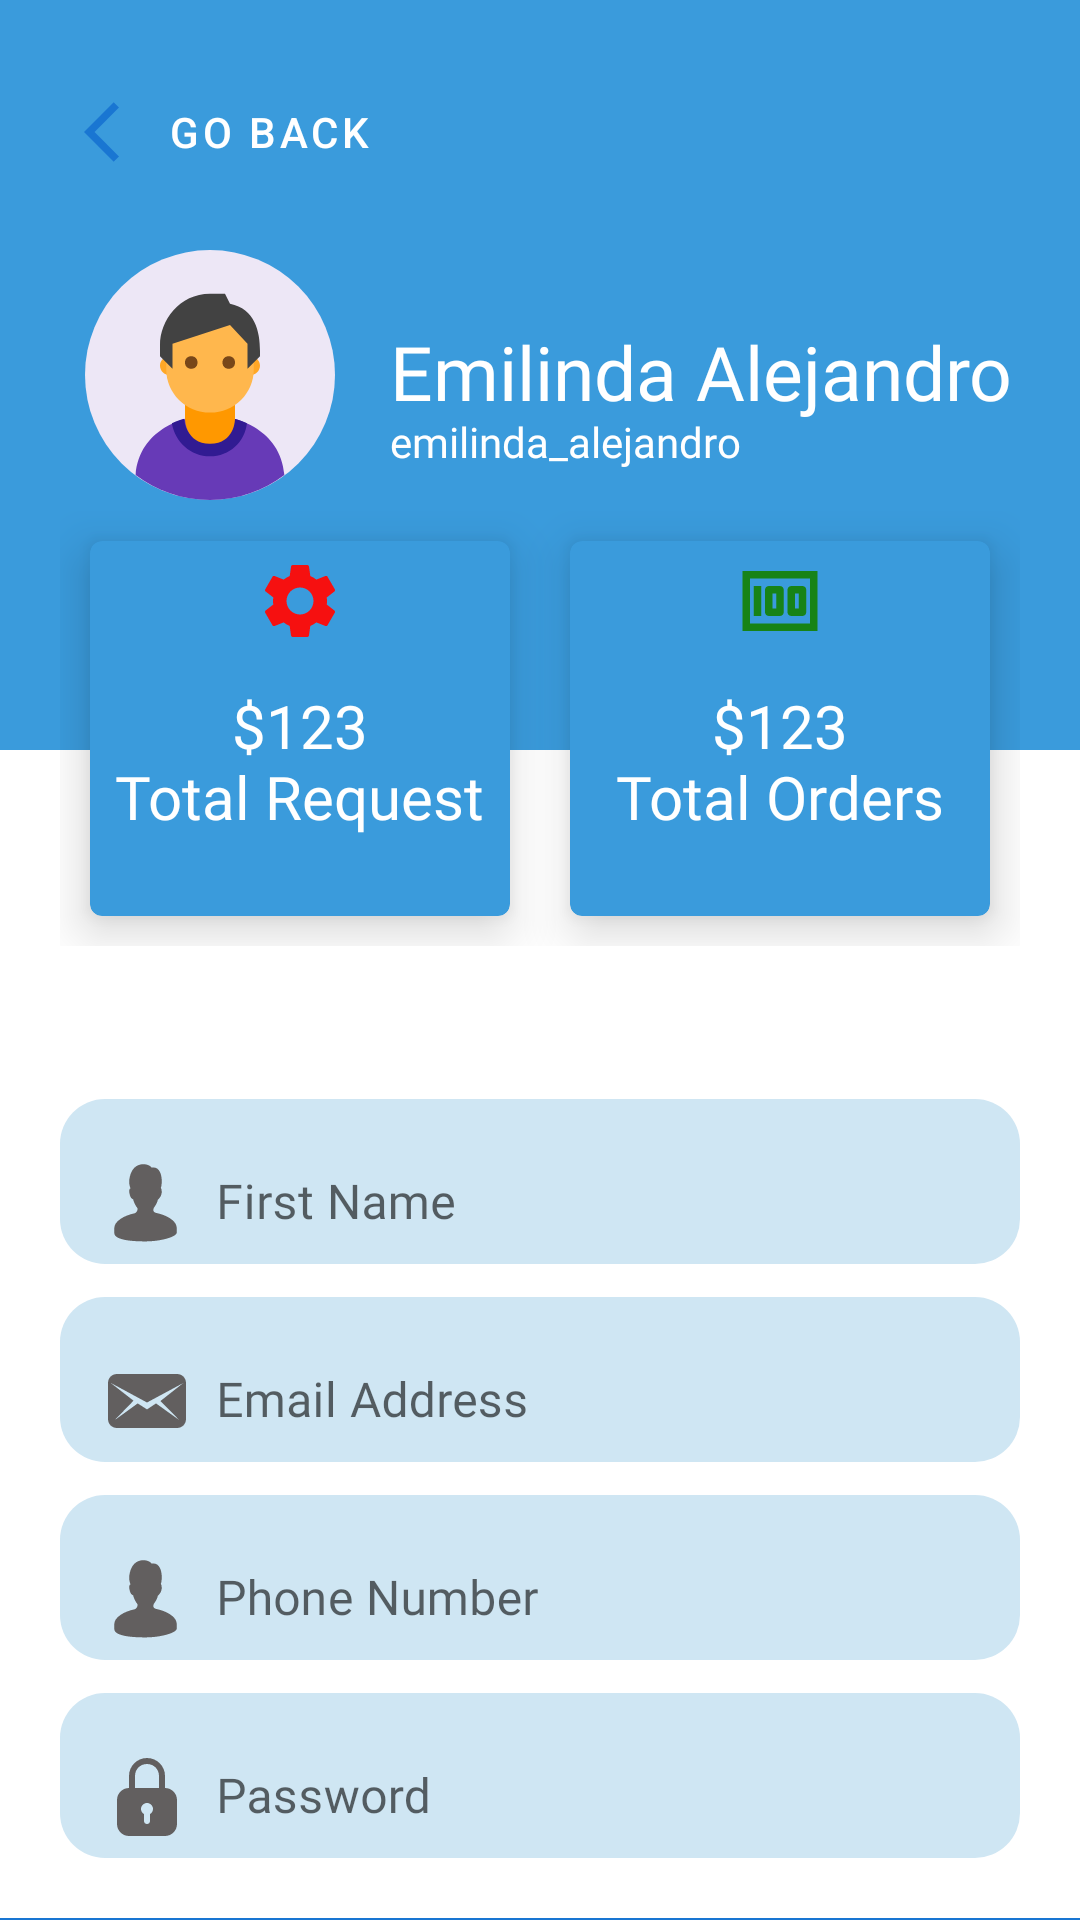

Named icons in this screenshot (1080px x 1920px) and their bounding boxes, (x1, y1, x2, y2):
money: (742, 571, 818, 631)
settings: (265, 565, 335, 637)
